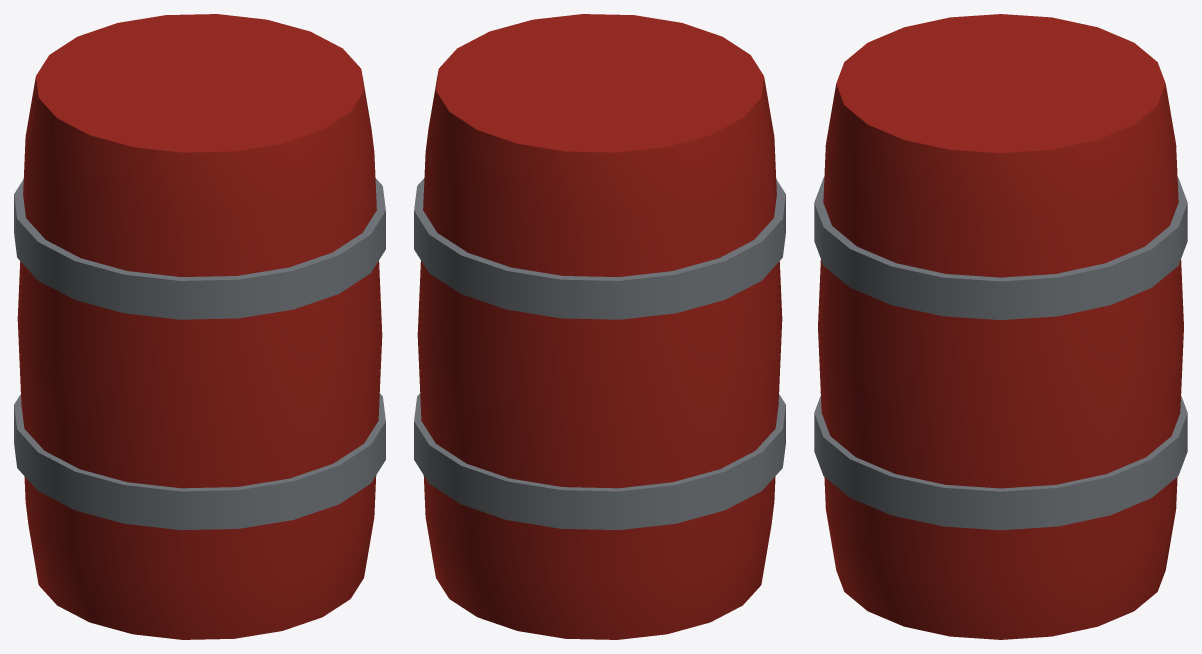
File: barrel.glb
3 renders of one model, left to right at view 1: azimuth 30°, elevation 25°; view 2: azimuth 150°, elevation 25°; view 3: azimuth 270°, elevation 25°, orthographic.
Parts seen in each view (by area): view 1: Body, HoopHigh, HoopLow; view 2: Body, HoopHigh, HoopLow; view 3: Body, HoopHigh, HoopLow.
Part boxes in pixels (x1,y1,x2,y2): Body: (17, 14, 382, 639); HoopHigh: (14, 178, 385, 319); HoopLow: (14, 393, 385, 530); Body: (417, 14, 782, 639); HoopHigh: (414, 178, 785, 319); HoopLow: (414, 393, 785, 530); Body: (818, 14, 1183, 639); HoopHigh: (814, 178, 1187, 319); HoopLow: (814, 395, 1187, 530).
Size of the model in its own units: 0.612 by 0.88 by 0.612.
